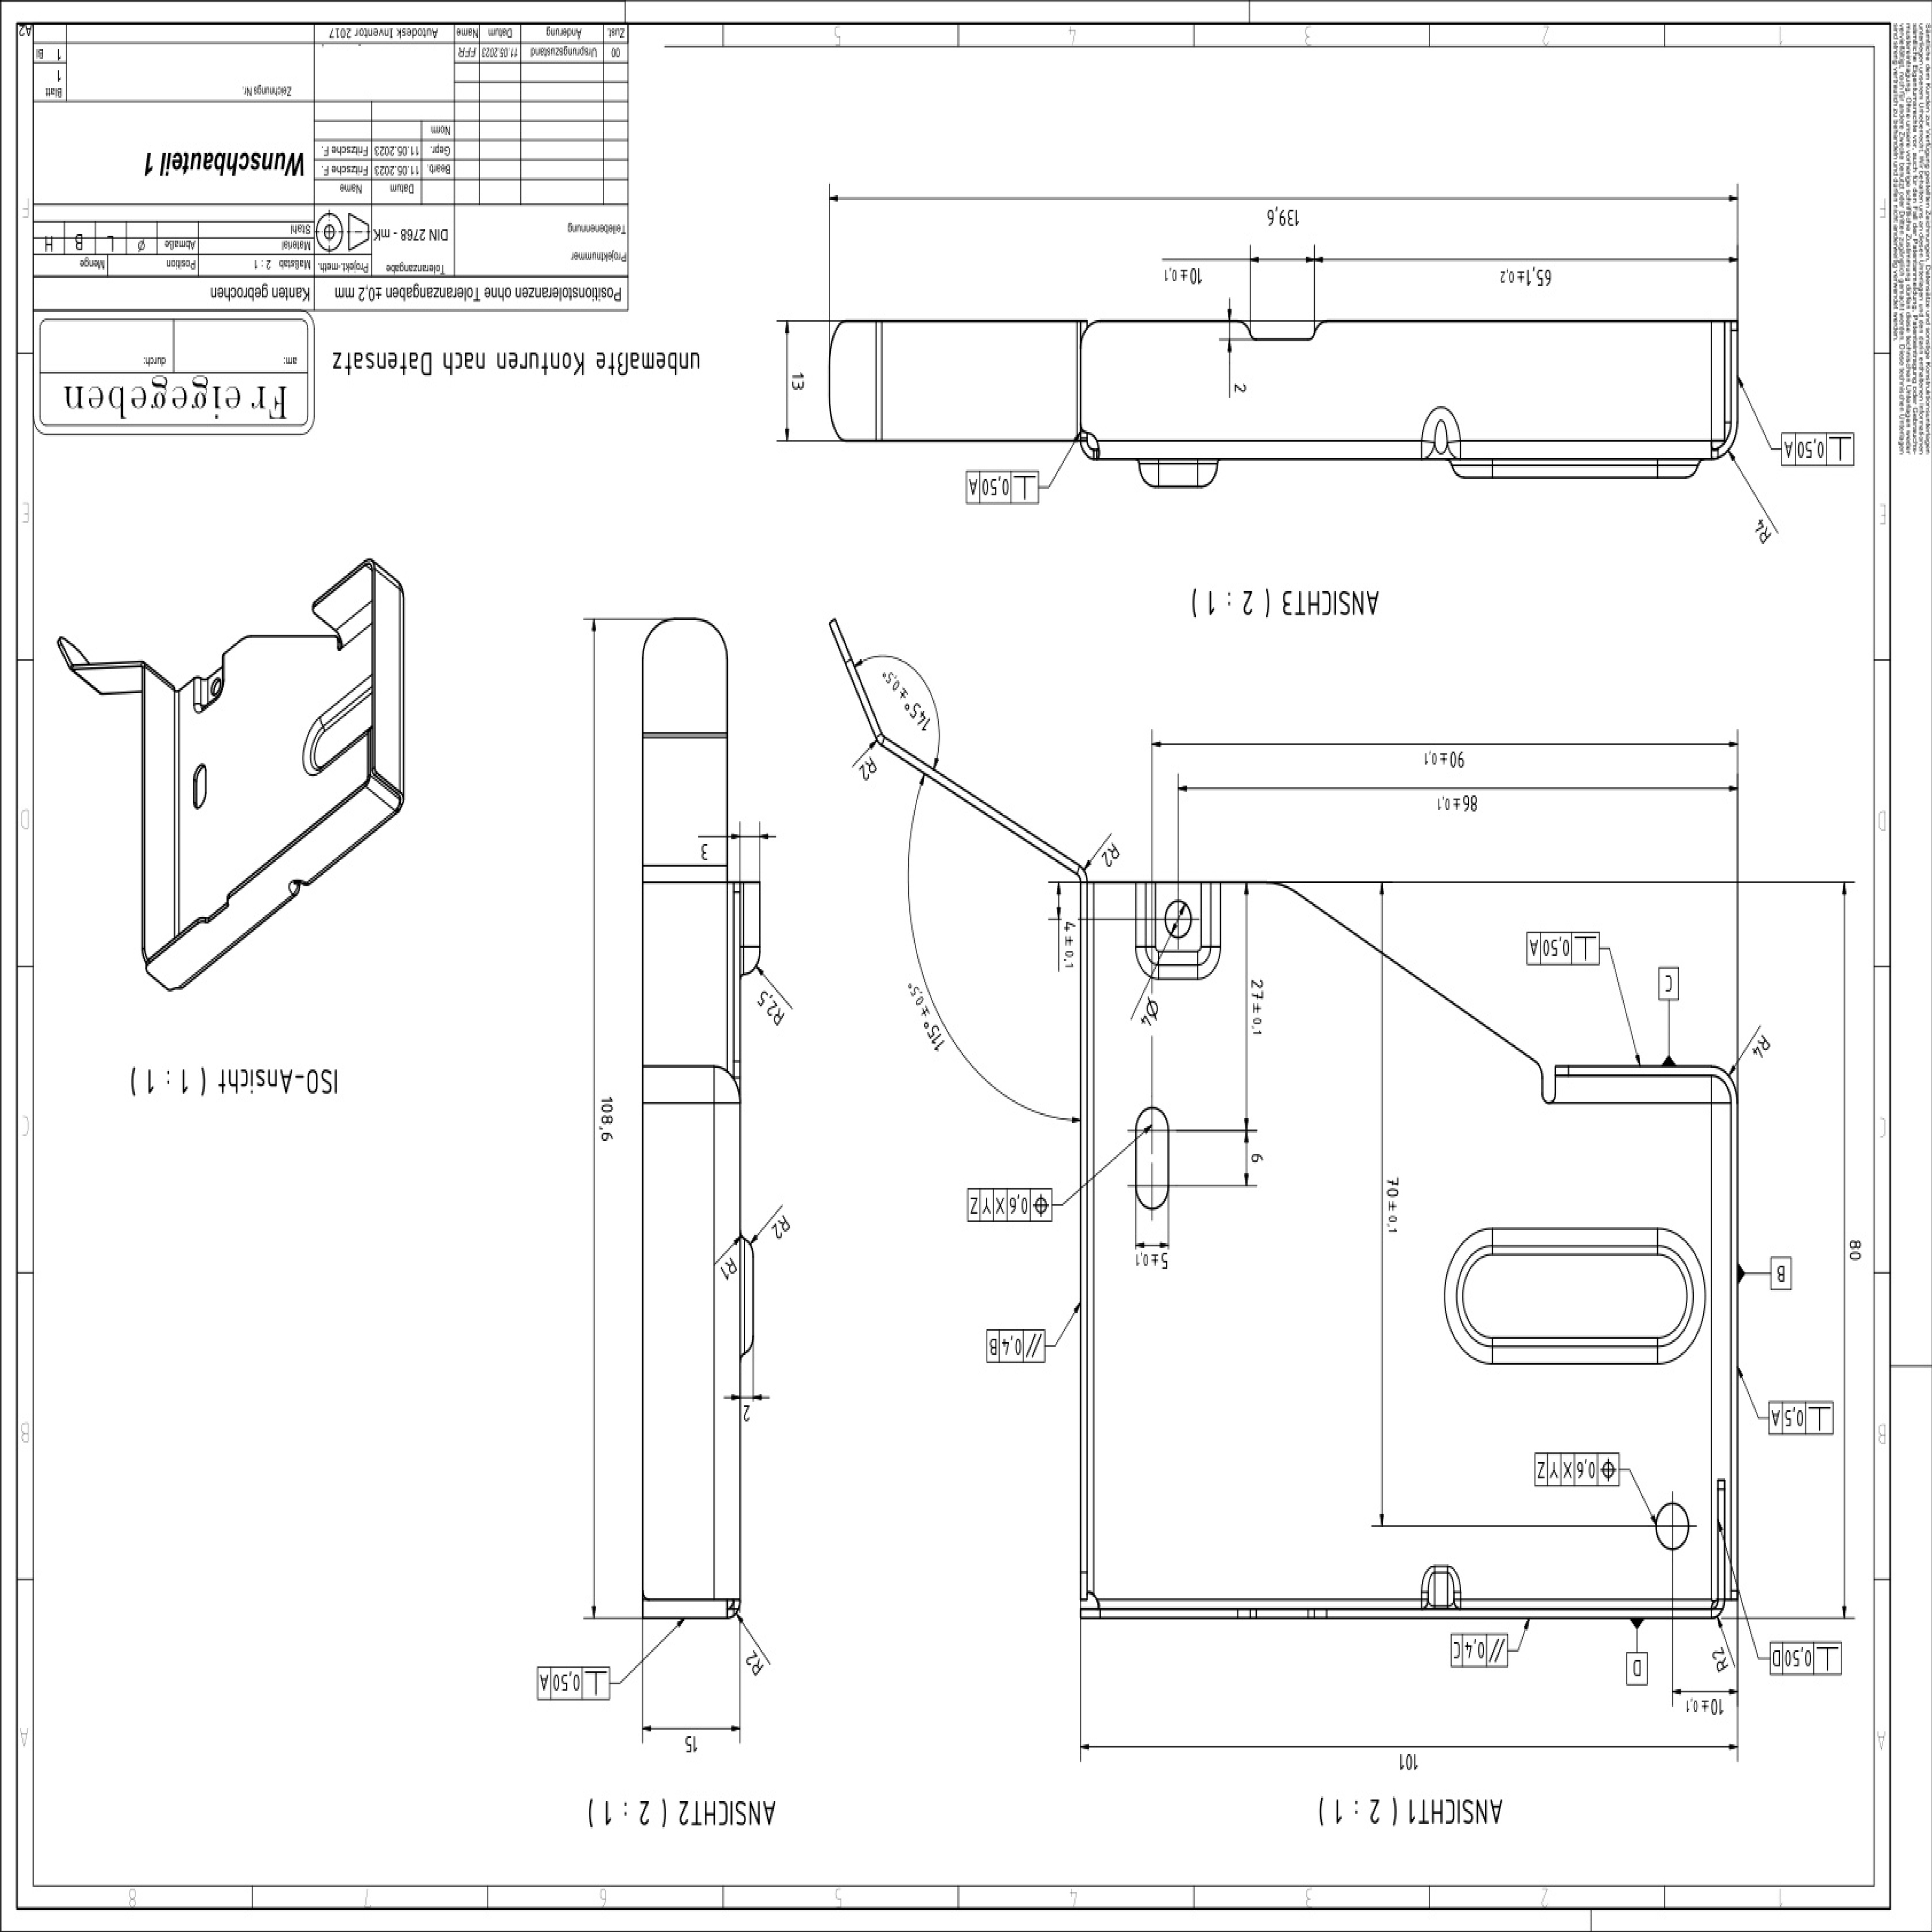BendingEdge: (1079, 438, 1705, 462), (639, 862, 725, 883), (1244, 322, 1318, 345), (872, 324, 884, 436), (1075, 320, 1085, 443), (641, 729, 728, 742)
BendingEdgeCurve: (867, 728, 891, 755), (1070, 859, 1094, 879)
Embossment: (1448, 1231, 1706, 1360), (1134, 877, 1217, 975)
EmbossmentExternal: (1453, 463, 1695, 477), (1137, 463, 1218, 485), (740, 881, 757, 977), (740, 1237, 753, 1355)
InnerContour: (1137, 1109, 1169, 1211), (1650, 1499, 1686, 1546), (1163, 901, 1200, 935)
Reinforcement: (1423, 407, 1462, 456), (1424, 1569, 1460, 1609)
